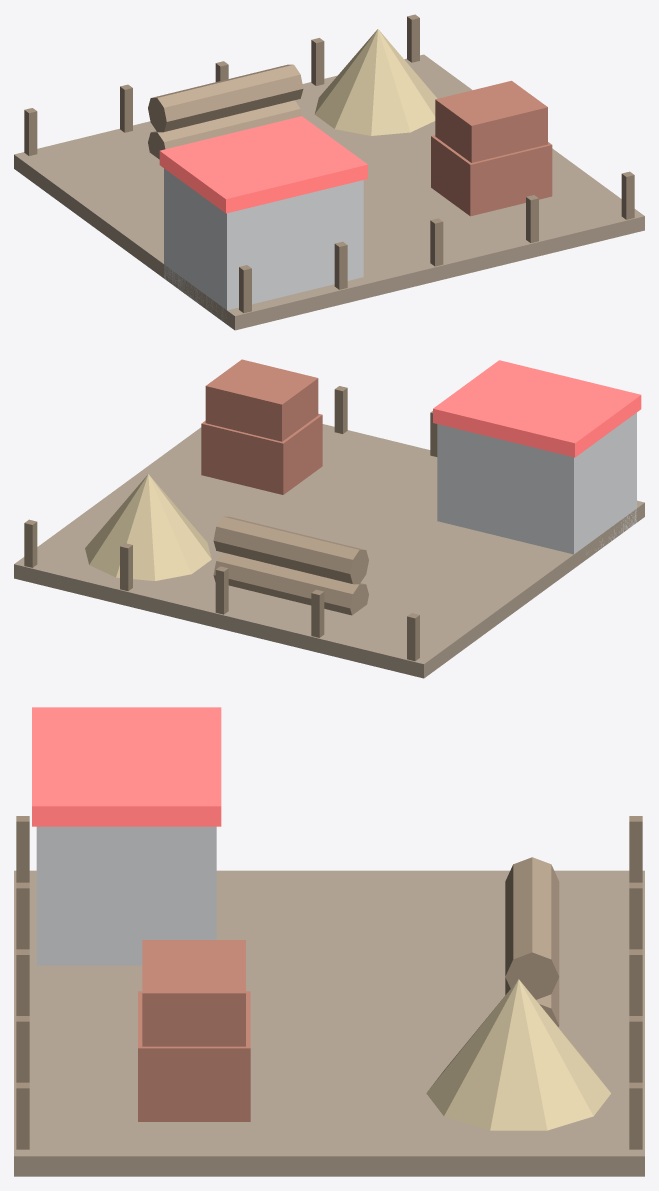
File: buildyard.glb
3 views of the same model, one above another, from view 1: azimuth 30°, elevation 25°; view 2: azimuth 150°, elevation 25°; view 3: azimuth 270°, elevation 25° (orthographic). The views are drawn at different scales.
Parts seen in each view (by area): view 1: buildyard; view 2: buildyard; view 3: buildyard.
Boxes of the visible parts, x1,y1,x2,y2 form: buildyard: (14, 14, 644, 330); buildyard: (14, 359, 644, 678); buildyard: (14, 707, 644, 1176).
Bounding box in the file's own units: 1.51 × 0.445 × 1.4.
